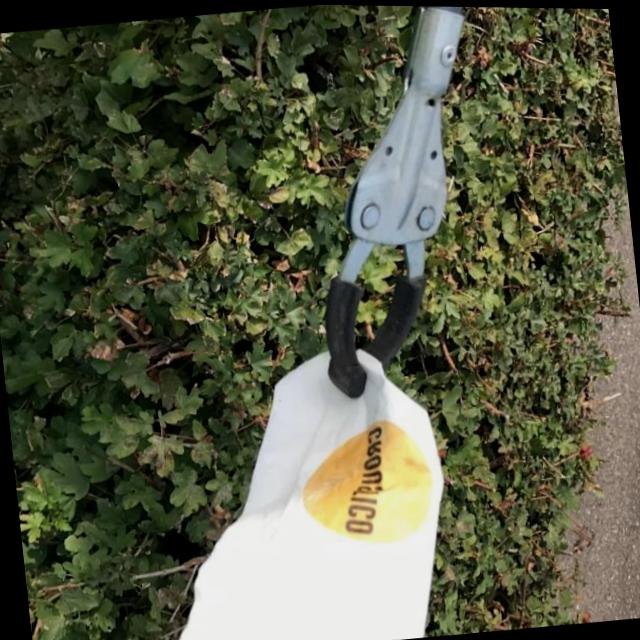Paper: (142, 334, 461, 640)
